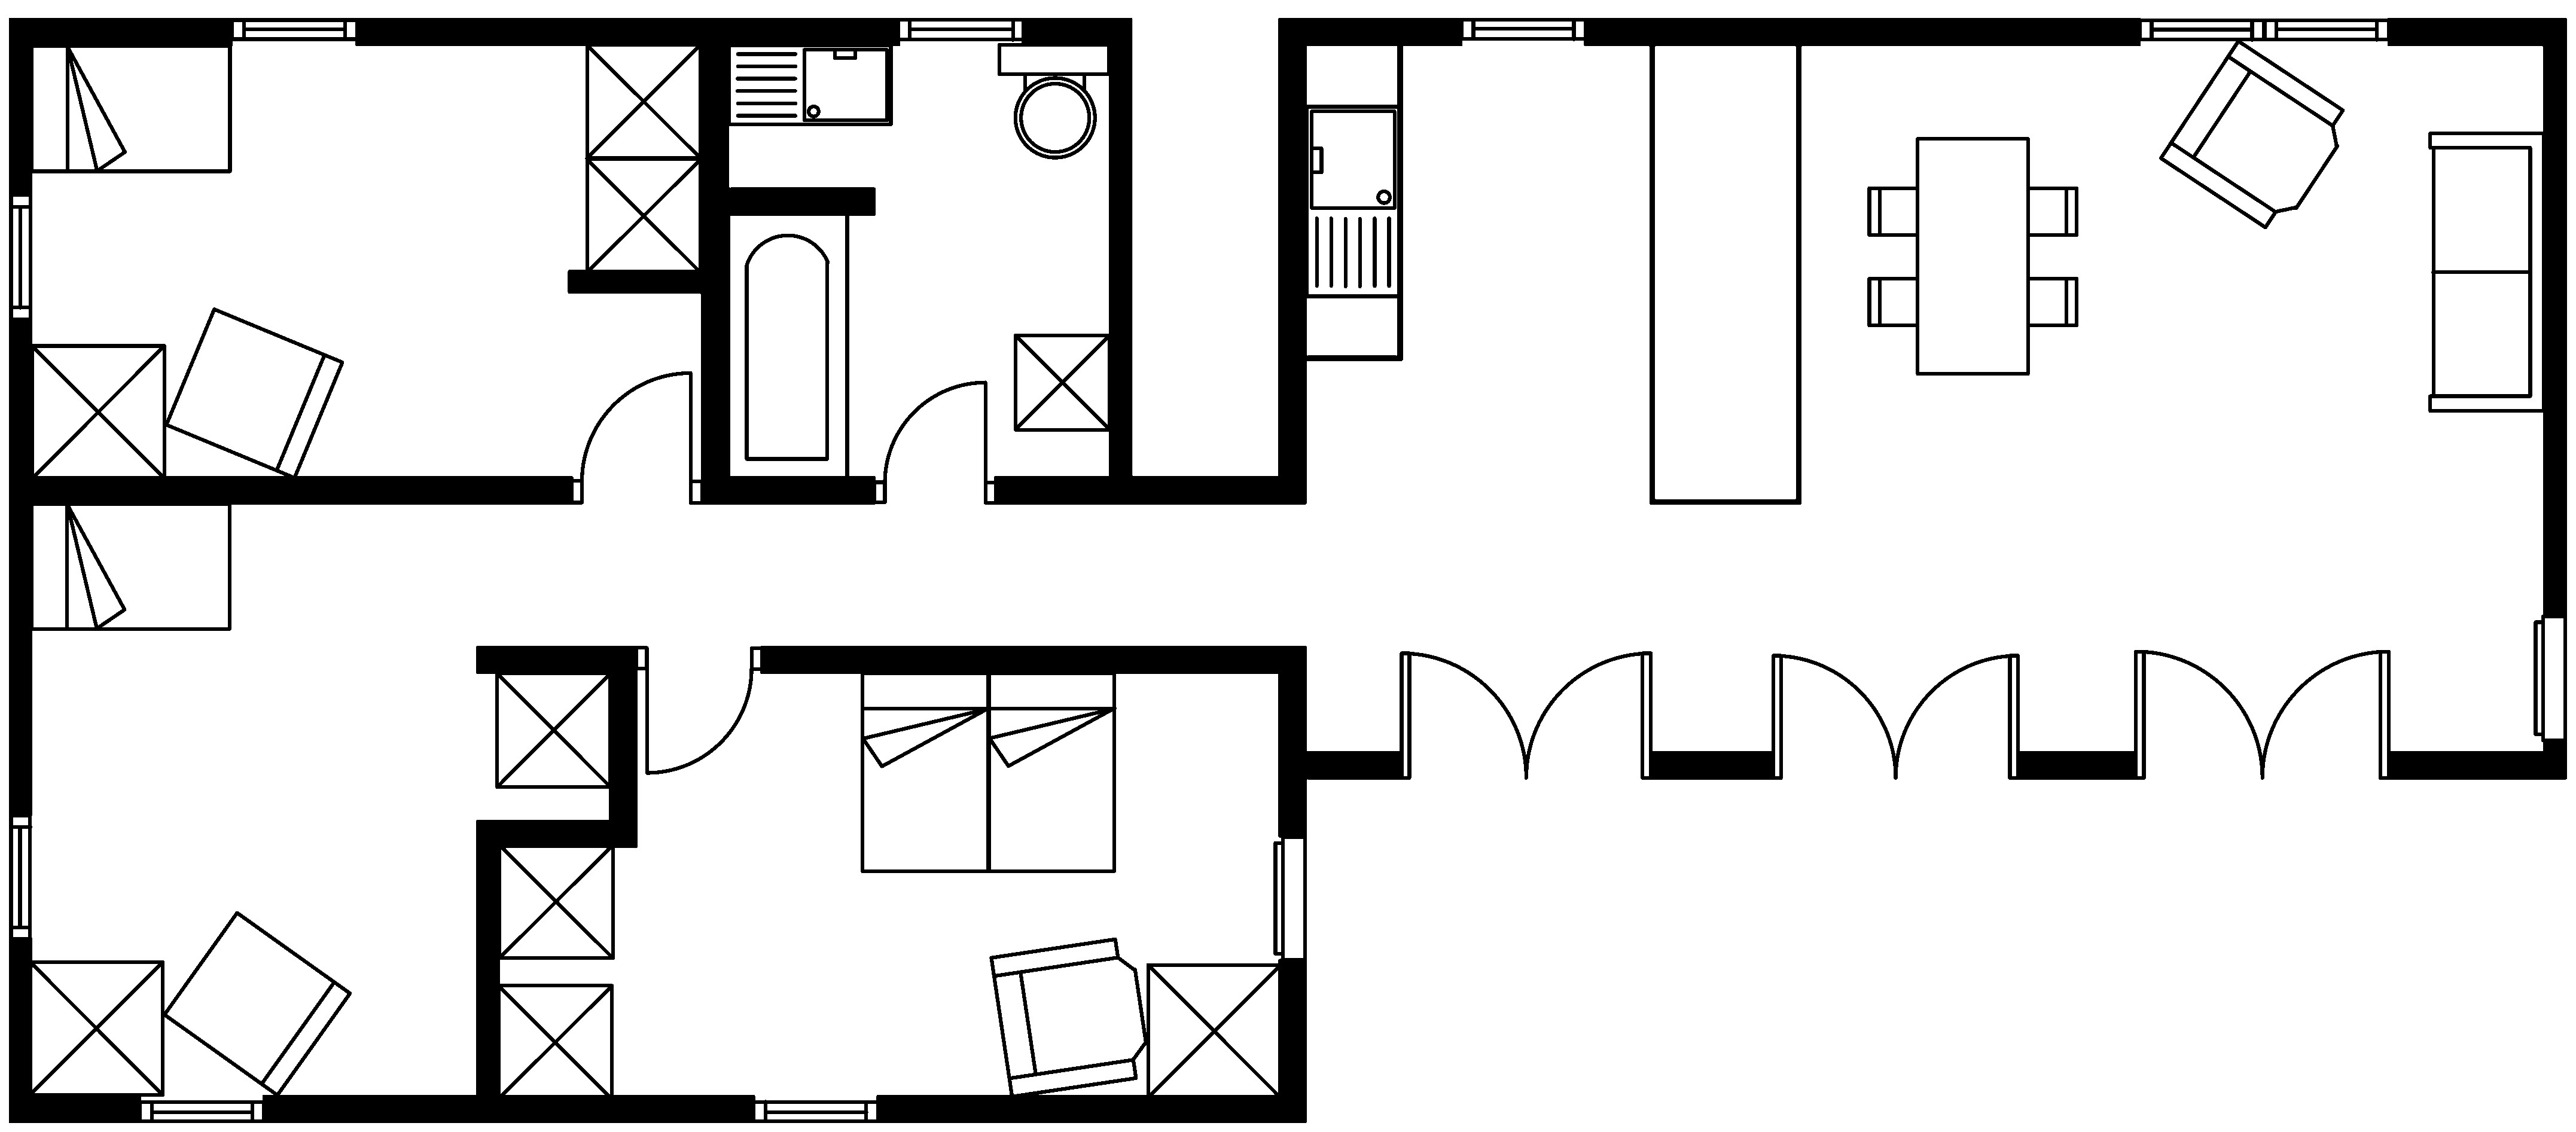armchair: (2159, 38, 2344, 228), (989, 936, 1148, 1099)
bed: (30, 43, 232, 174), (859, 670, 991, 872), (986, 670, 1117, 872), (28, 501, 232, 631)
coffee_table: (26, 959, 164, 1097), (1145, 963, 1283, 1099), (30, 343, 166, 480), (583, 41, 702, 161), (494, 982, 614, 1101), (494, 670, 613, 789), (496, 841, 614, 959), (585, 156, 702, 274), (1012, 332, 1112, 432)
dining_table: (1866, 136, 2078, 376)
large_sink: (997, 41, 1111, 158)
large_sofa: (2428, 131, 2546, 412)
sink: (1304, 104, 1401, 297), (726, 43, 894, 127)
small_sofa: (161, 910, 352, 1097), (163, 306, 343, 480)
tub: (726, 210, 849, 483)
